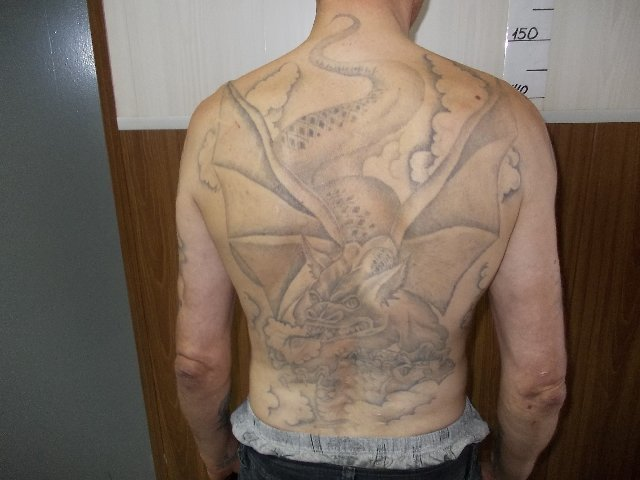tatu6_drakon: (176, 11, 563, 434)
